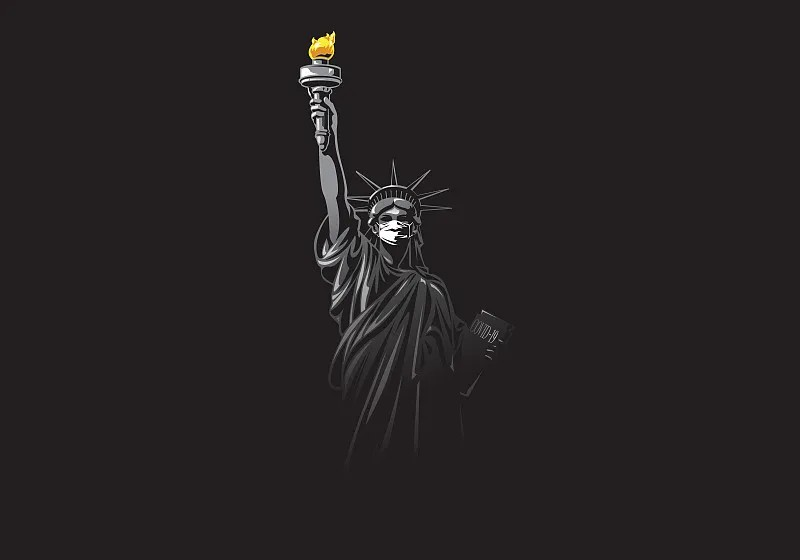SL: (299, 31, 513, 473)
